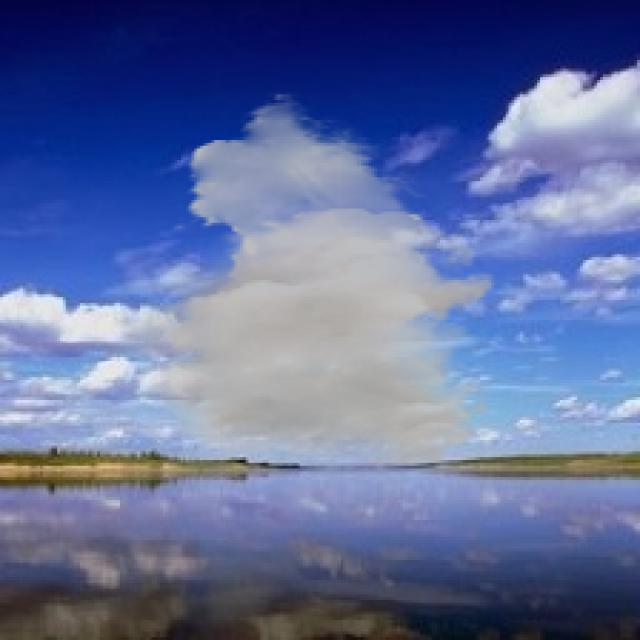smoke: (103, 91, 497, 468)
